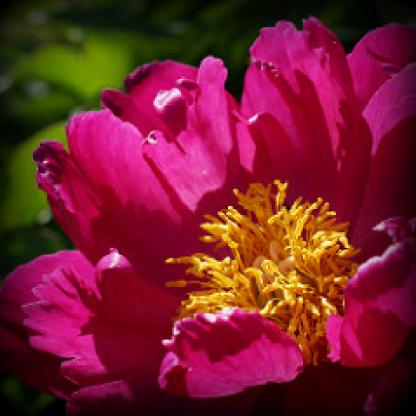Rose-Mawar: (1, 13, 416, 414)
